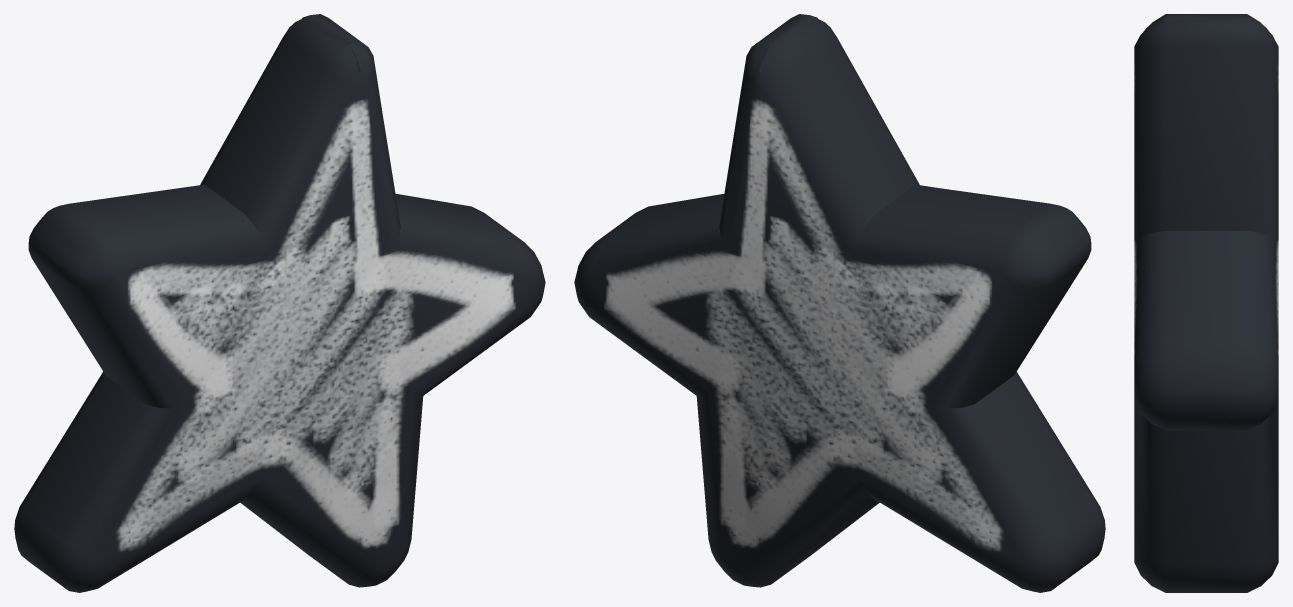
The model's file is Star2.fbx.
3 views of the same model, side by side, from view 1: azimuth 30°, elevation 25°; view 2: azimuth 150°, elevation 25°; view 3: azimuth 270°, elevation 25° (orthographic). The views are drawn at different scales.
Parts seen in each view (by area): view 1: m_Star2; view 2: m_Star2; view 3: m_Star2.
Boxes of the visible parts, x1=… form: m_Star2: x1=14, y1=14, x2=545, y2=592; m_Star2: x1=574, y1=14, x2=1105, y2=592; m_Star2: x1=1134, y1=14, x2=1278, y2=592.
Bounding box in the file's own units: 0.4021 × 0.4304 × 0.1.
